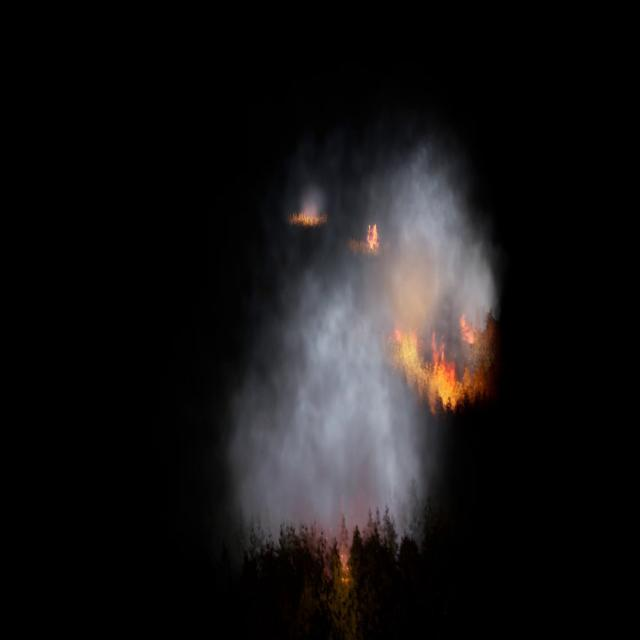fire: (392, 327, 479, 405), (456, 313, 486, 347), (365, 219, 383, 253)
smoke: (220, 100, 503, 554), (294, 172, 327, 223)
